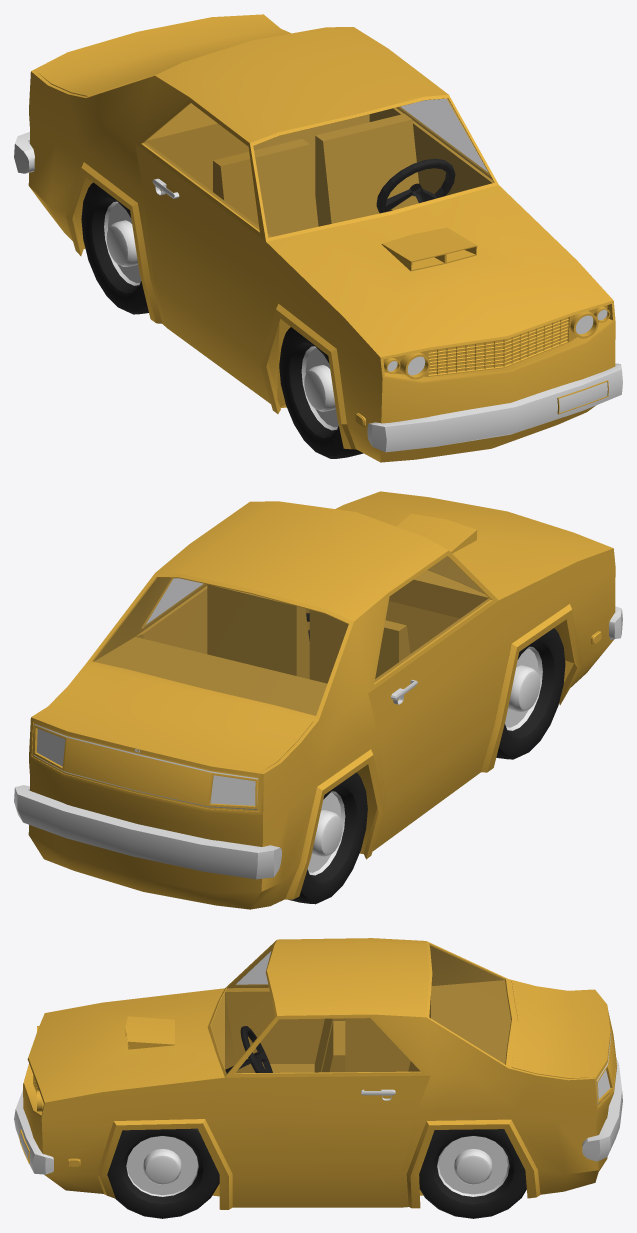
File: lowSportCar.fbx
3 renders of one model, top to bottom at view 1: azimuth 30°, elevation 25°; view 2: azimuth 150°, elevation 25°; view 3: azimuth 270°, elevation 25°, orthographic. The views are drawn at different scales.
Parts seen in each view (by area): view 1: AUTO; view 2: AUTO; view 3: AUTO.
Part boxes in pixels (box(x1,y1,x2,y2)): AUTO: box(14, 14, 622, 462); AUTO: box(14, 491, 622, 909); AUTO: box(14, 938, 622, 1218).
Size of the model in its own units: 374 by 370 by 965.
